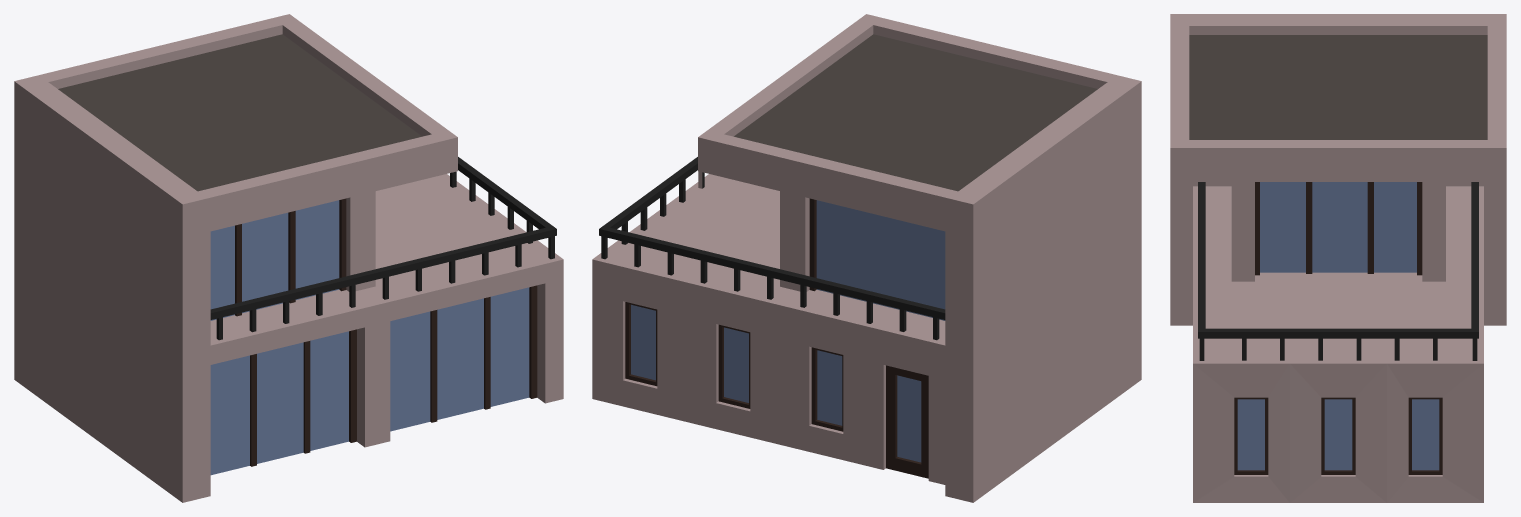
Rendered from ModernHouse_03.fbx.
3 renders of one model, left to right at view 1: azimuth 30°, elevation 25°; view 2: azimuth 150°, elevation 25°; view 3: azimuth 270°, elevation 25°, orthographic.
Parts seen in each view (by area): view 1: ModernHouse_03; view 2: ModernHouse_03; view 3: ModernHouse_03.
Boxes of the visible parts, x1=… form: ModernHouse_03: x1=14, y1=14, x2=563, y2=502; ModernHouse_03: x1=592, y1=14, x2=1141, y2=502; ModernHouse_03: x1=1170, y1=14, x2=1506, y2=502.
Bounding box in the file's own units: 10.65 × 7.74 × 7.92.
